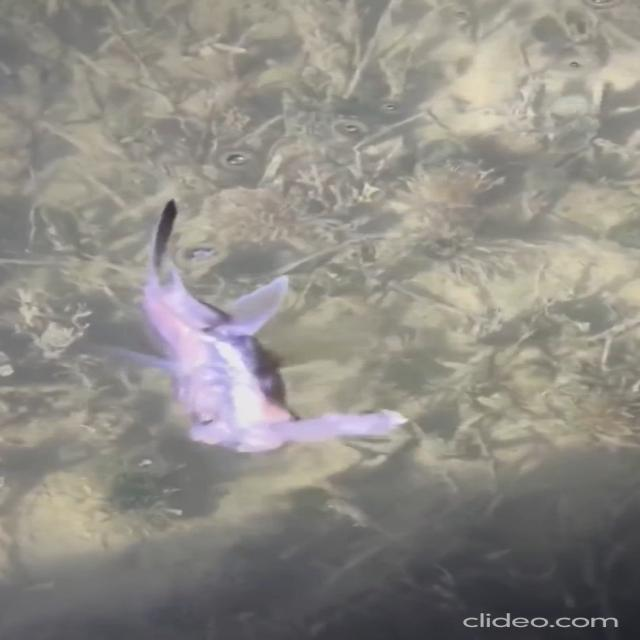fish: (80, 185, 423, 461)
